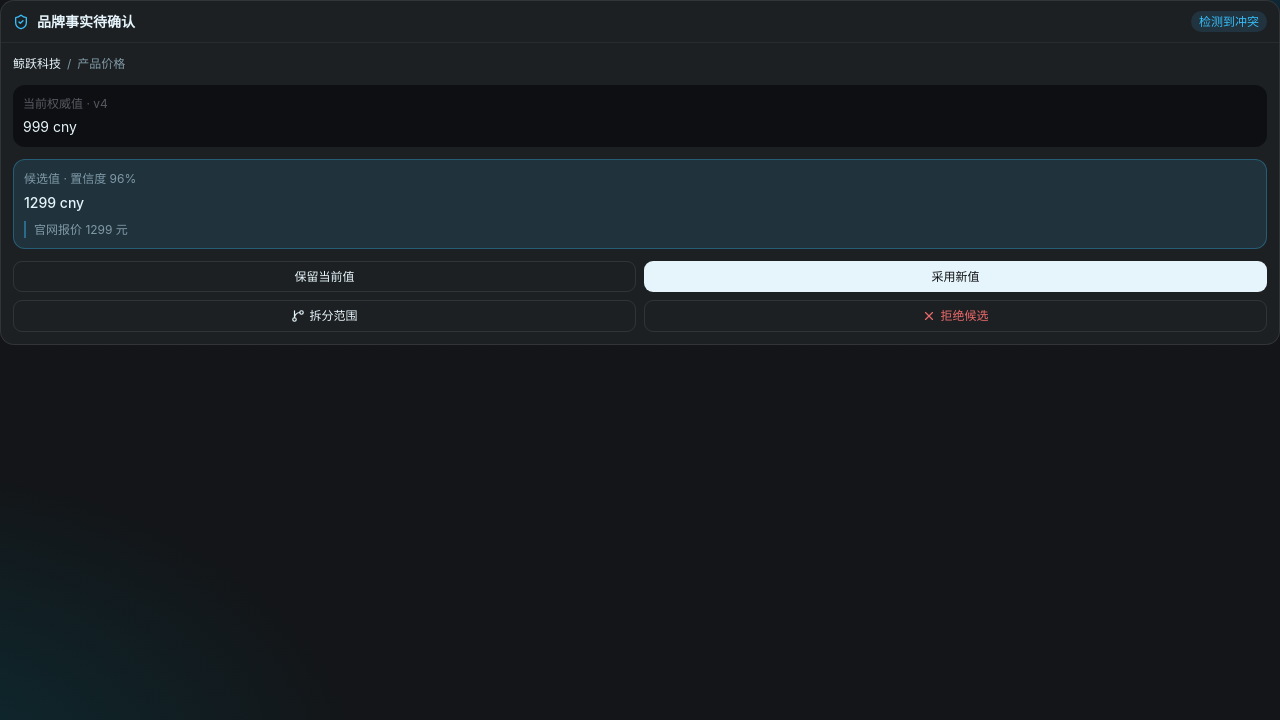
Test: KnowledgeConflictCard › requires split scope to change the structured key
The image size is (1280, 720).
Click the button "拆分范围".
click(324, 316)  # box [13,300,636,332]
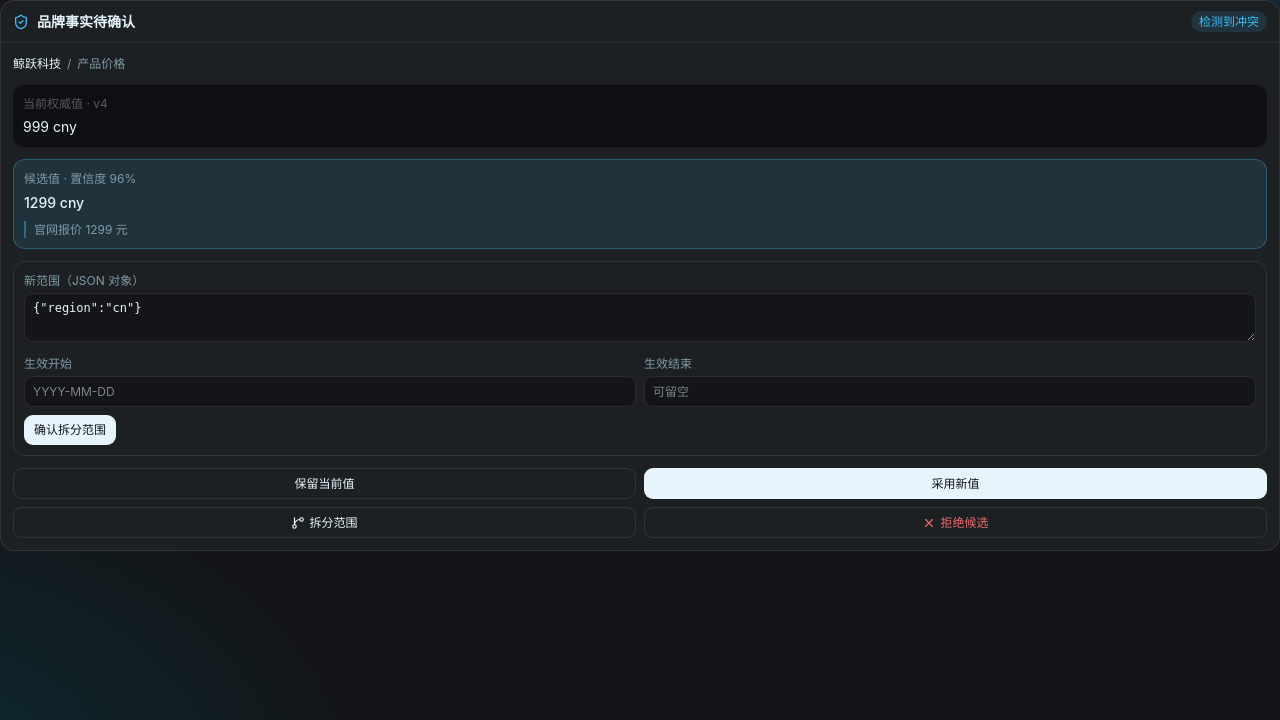
Click the button "确认拆分范围".
click(70, 430)  # box [24,415,116,445]
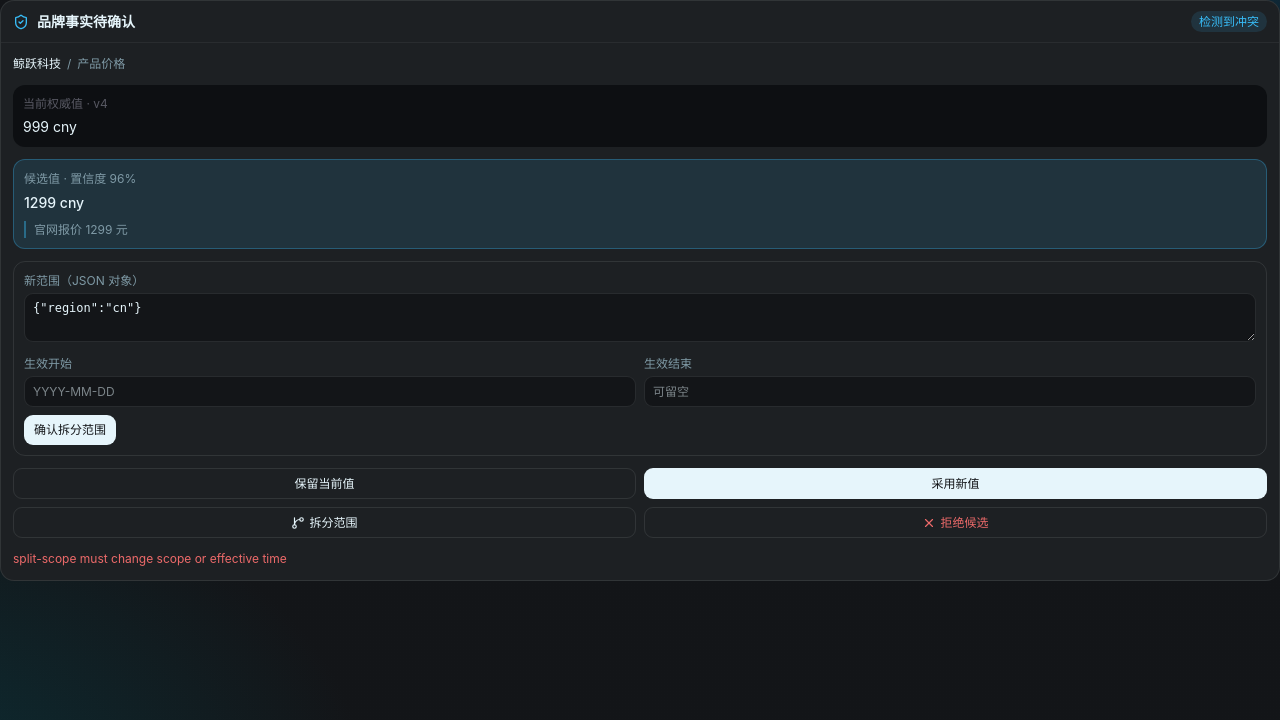
Expected: the message reads "split-scope must change scope or effective time", [13,552,287,566]
